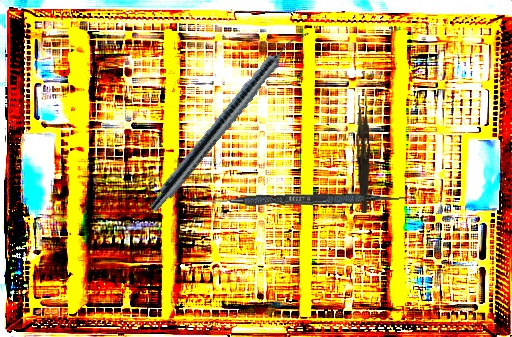Dressing Forceps: (353, 94, 374, 214)
Handpiece: (145, 21, 311, 218)
Spatula Surgical: (191, 189, 407, 210)
